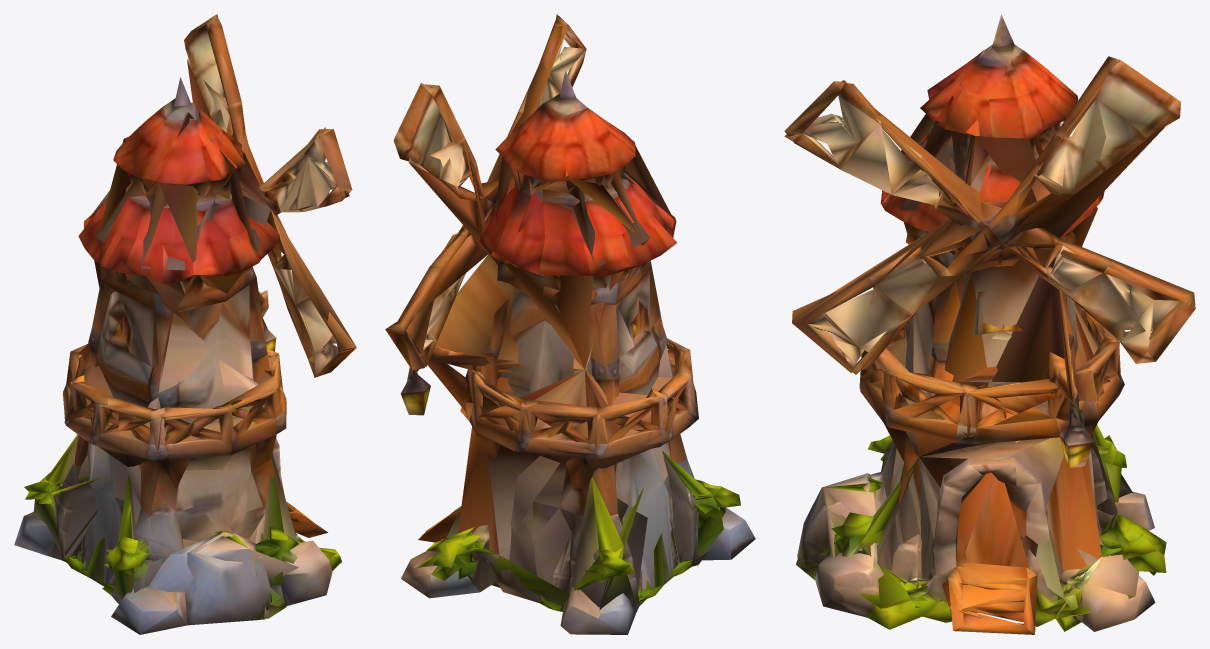
Rendered from moinho.glb.
3 views of the same model, side by side, from view 1: azimuth 30°, elevation 25°; view 2: azimuth 150°, elevation 25°; view 3: azimuth 270°, elevation 25° (orthographic). The views are drawn at different scales.
Visible parts, largest first — view 1: moinho, moinho-lod; view 2: moinho, moinho-lod; view 3: moinho, moinho-lod.
Part boxes in pixels (x1,y1,x2,y2): moinho: (14,14,356,634); moinho-lod: (33,14,355,618); moinho: (385,14,755,634); moinho-lod: (398,19,723,609); moinho: (784,14,1195,634); moinho-lod: (784,50,1180,634).
Size of the model in its own units: 0.5362 by 1 by 0.6682.
1 material, 1 textured.
